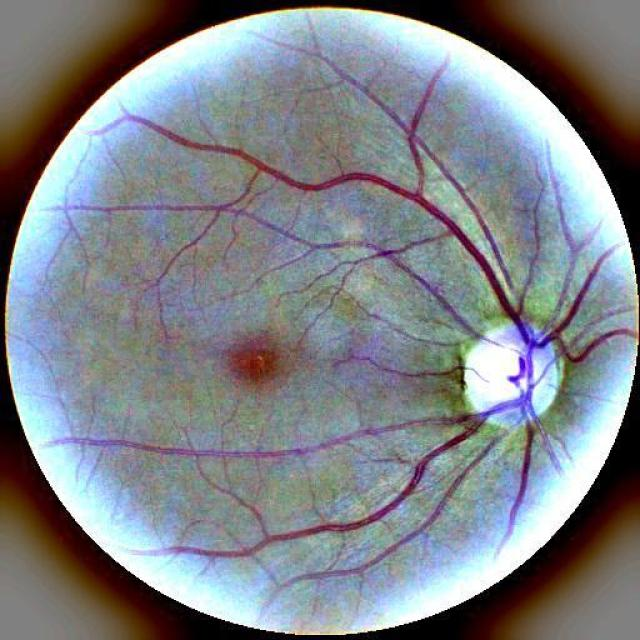Macula: (224, 327, 283, 393)
Nerves: (71, 70, 636, 551), (300, 430, 511, 578), (335, 344, 468, 390)
Optic Disk: (463, 326, 565, 431)
